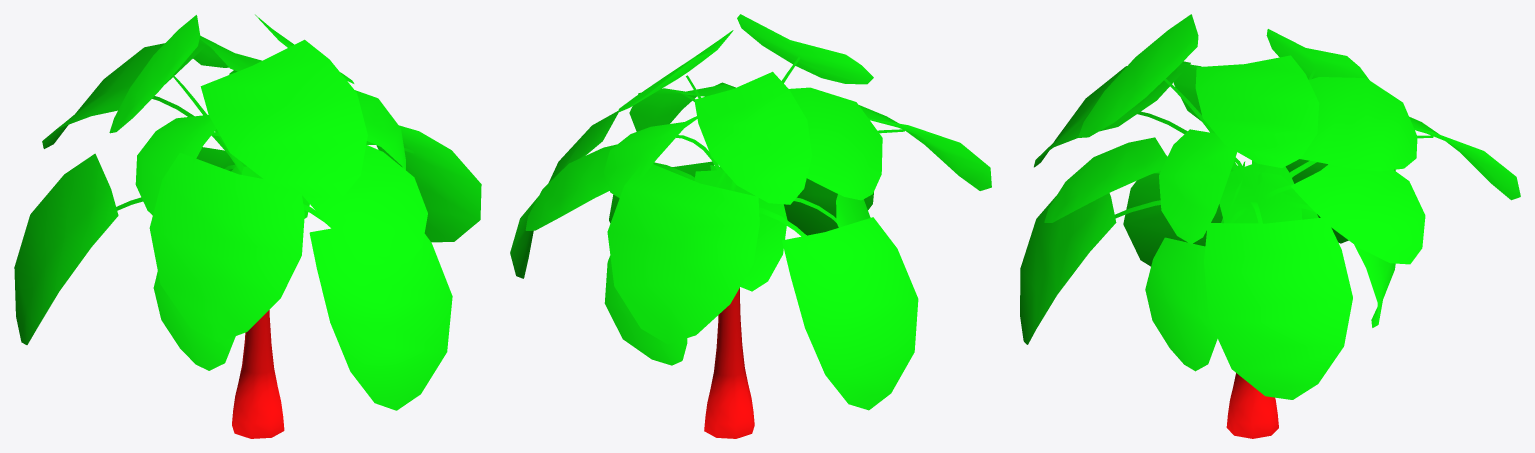
The model's file is PointyPalm_Big_2018.FBX.
3 renders of one model, left to right at view 1: azimuth 30°, elevation 25°; view 2: azimuth 150°, elevation 25°; view 3: azimuth 270°, elevation 25°, orthographic. The views are drawn at different scales.
Visible parts, largest first — view 1: PointyPalmBig_Leafs_LOD0, PointyPalmBig_Trunk_LOD0; view 2: PointyPalmBig_Leafs_LOD0, PointyPalmBig_Trunk_LOD0; view 3: PointyPalmBig_Leafs_LOD0, PointyPalmBig_Trunk_LOD0.
Part boxes in pixels (<box>): PointyPalmBig_Leafs_LOD0: <box>14,14,481,410</box>; PointyPalmBig_Trunk_LOD0: <box>232,310,284,438</box>; PointyPalmBig_Leafs_LOD0: <box>510,14,991,410</box>; PointyPalmBig_Trunk_LOD0: <box>704,288,754,438</box>; PointyPalmBig_Leafs_LOD0: <box>1020,14,1520,399</box>; PointyPalmBig_Trunk_LOD0: <box>1226,373,1278,438</box>.
Size of what is drawn, in the model's own units: 36.45 by 33.73 by 39.29.
